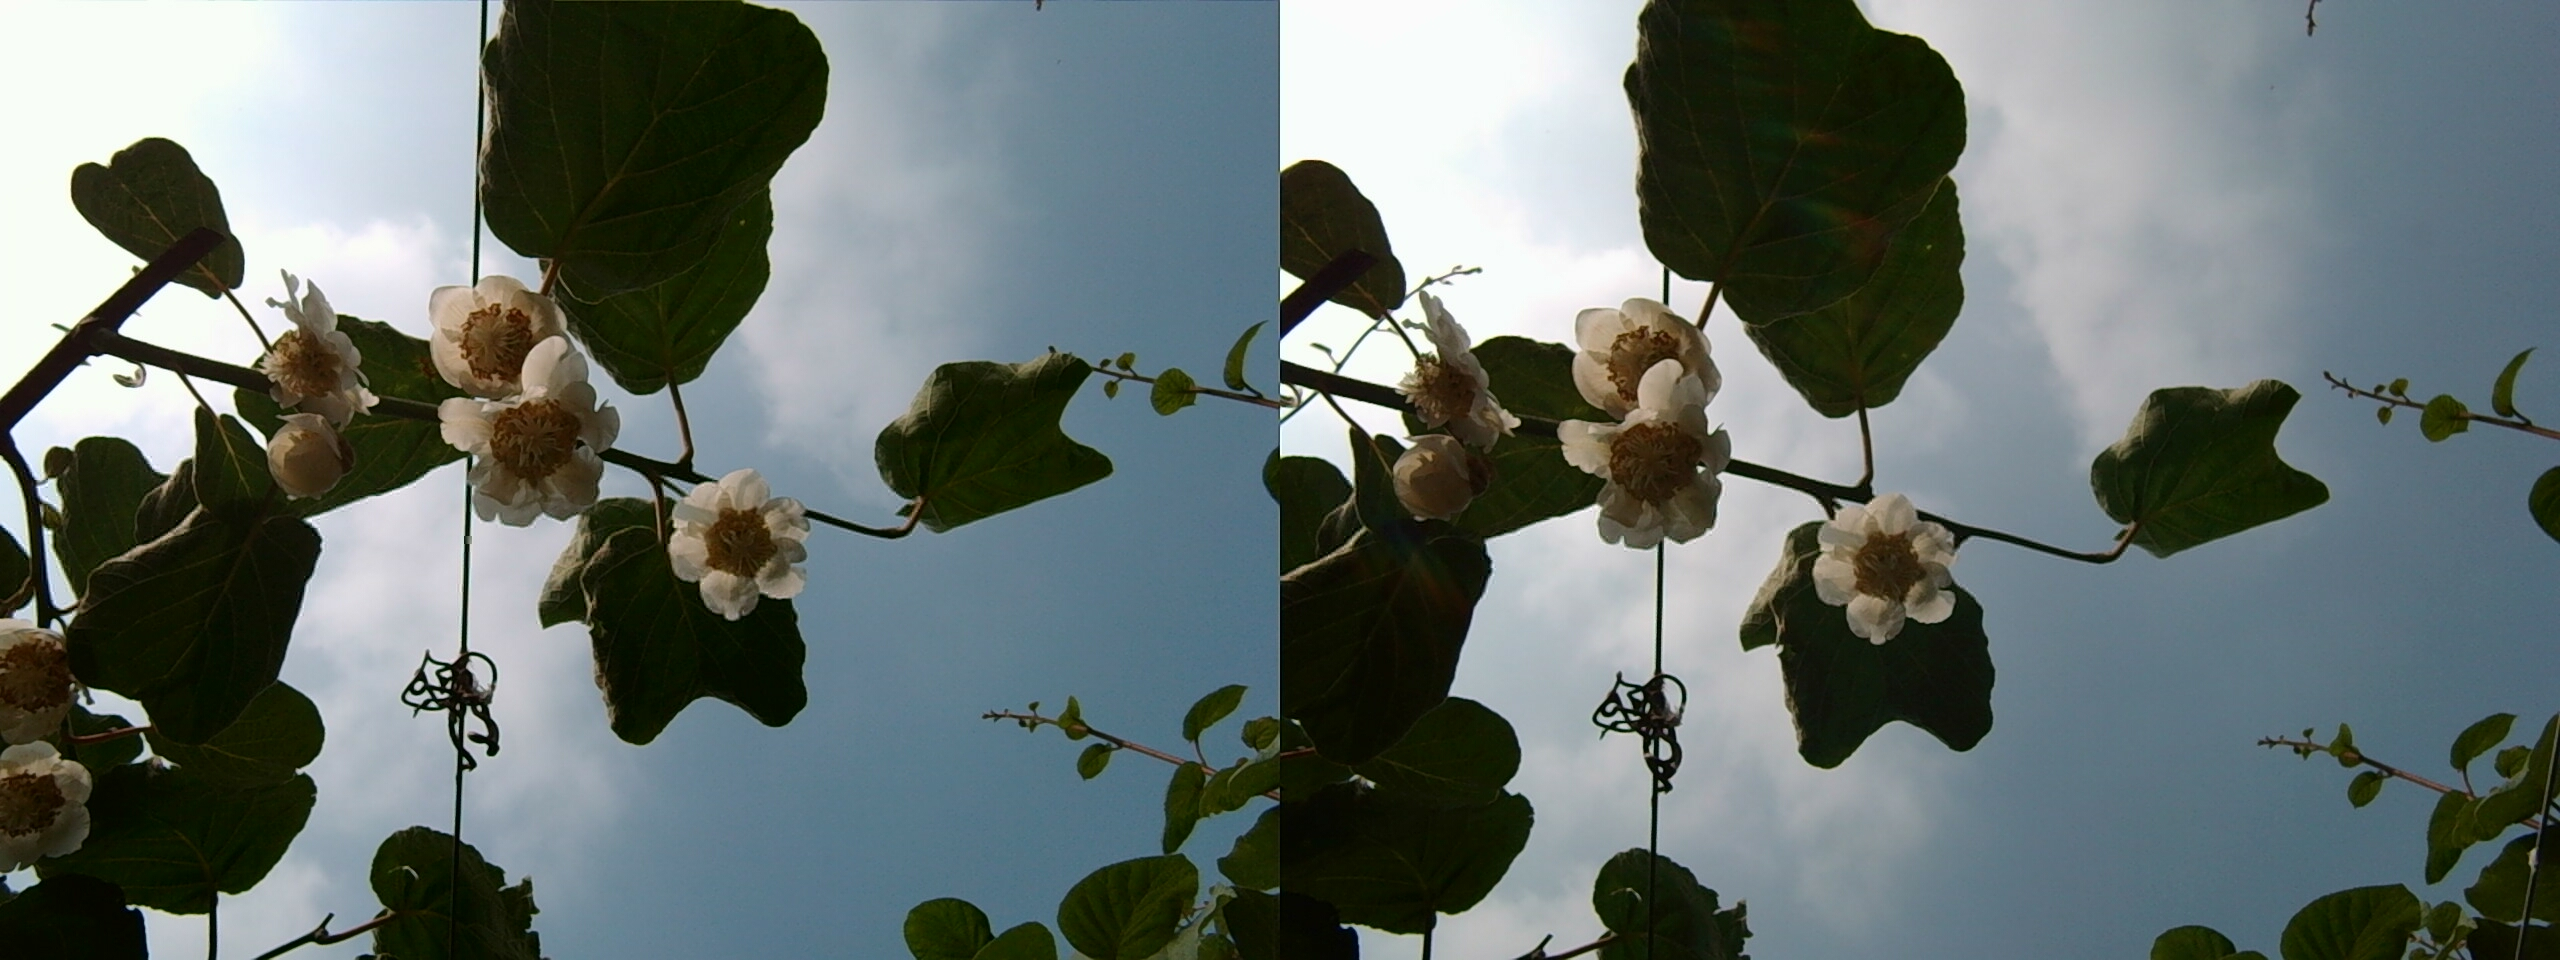flower: (1553, 297, 1736, 547), (431, 358, 622, 519), (1794, 488, 1969, 637), (660, 460, 816, 611), (418, 268, 570, 397), (256, 278, 364, 418), (2, 741, 91, 857)
